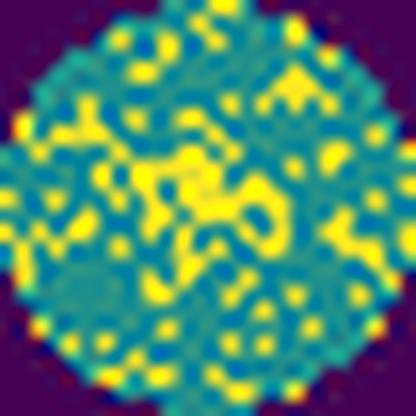Center: (135, 145, 291, 253)
